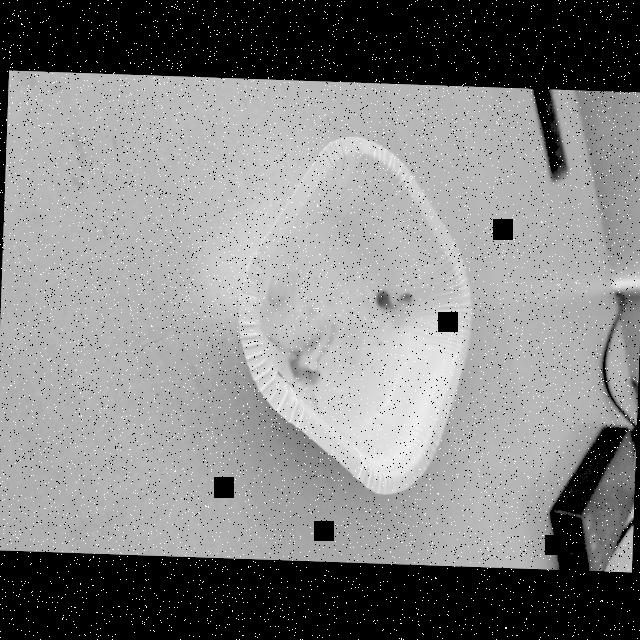cardboard_bowl: (204, 124, 496, 512)
